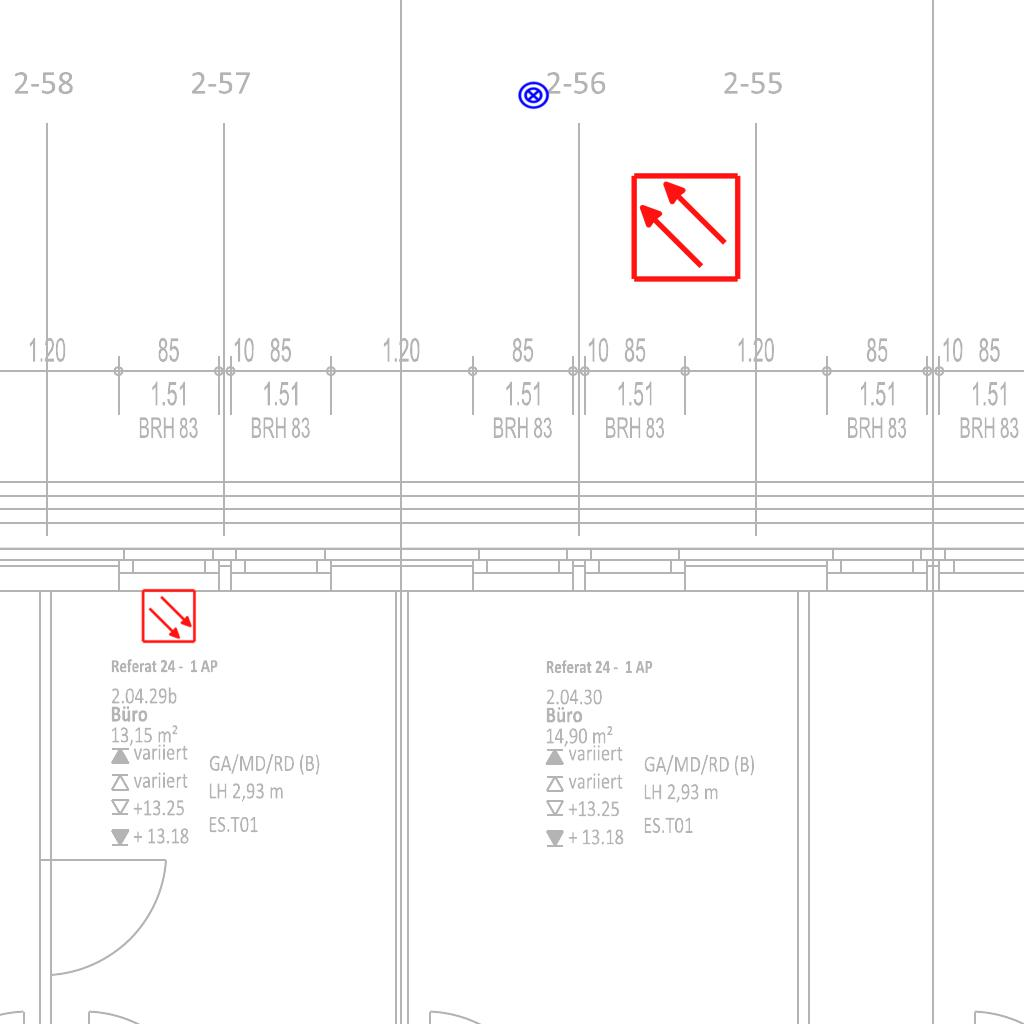RMO_Rauchmelder_optischer: (629, 171, 742, 284), (141, 588, 197, 644)
Taster_beleuchtet: (517, 79, 550, 112)
